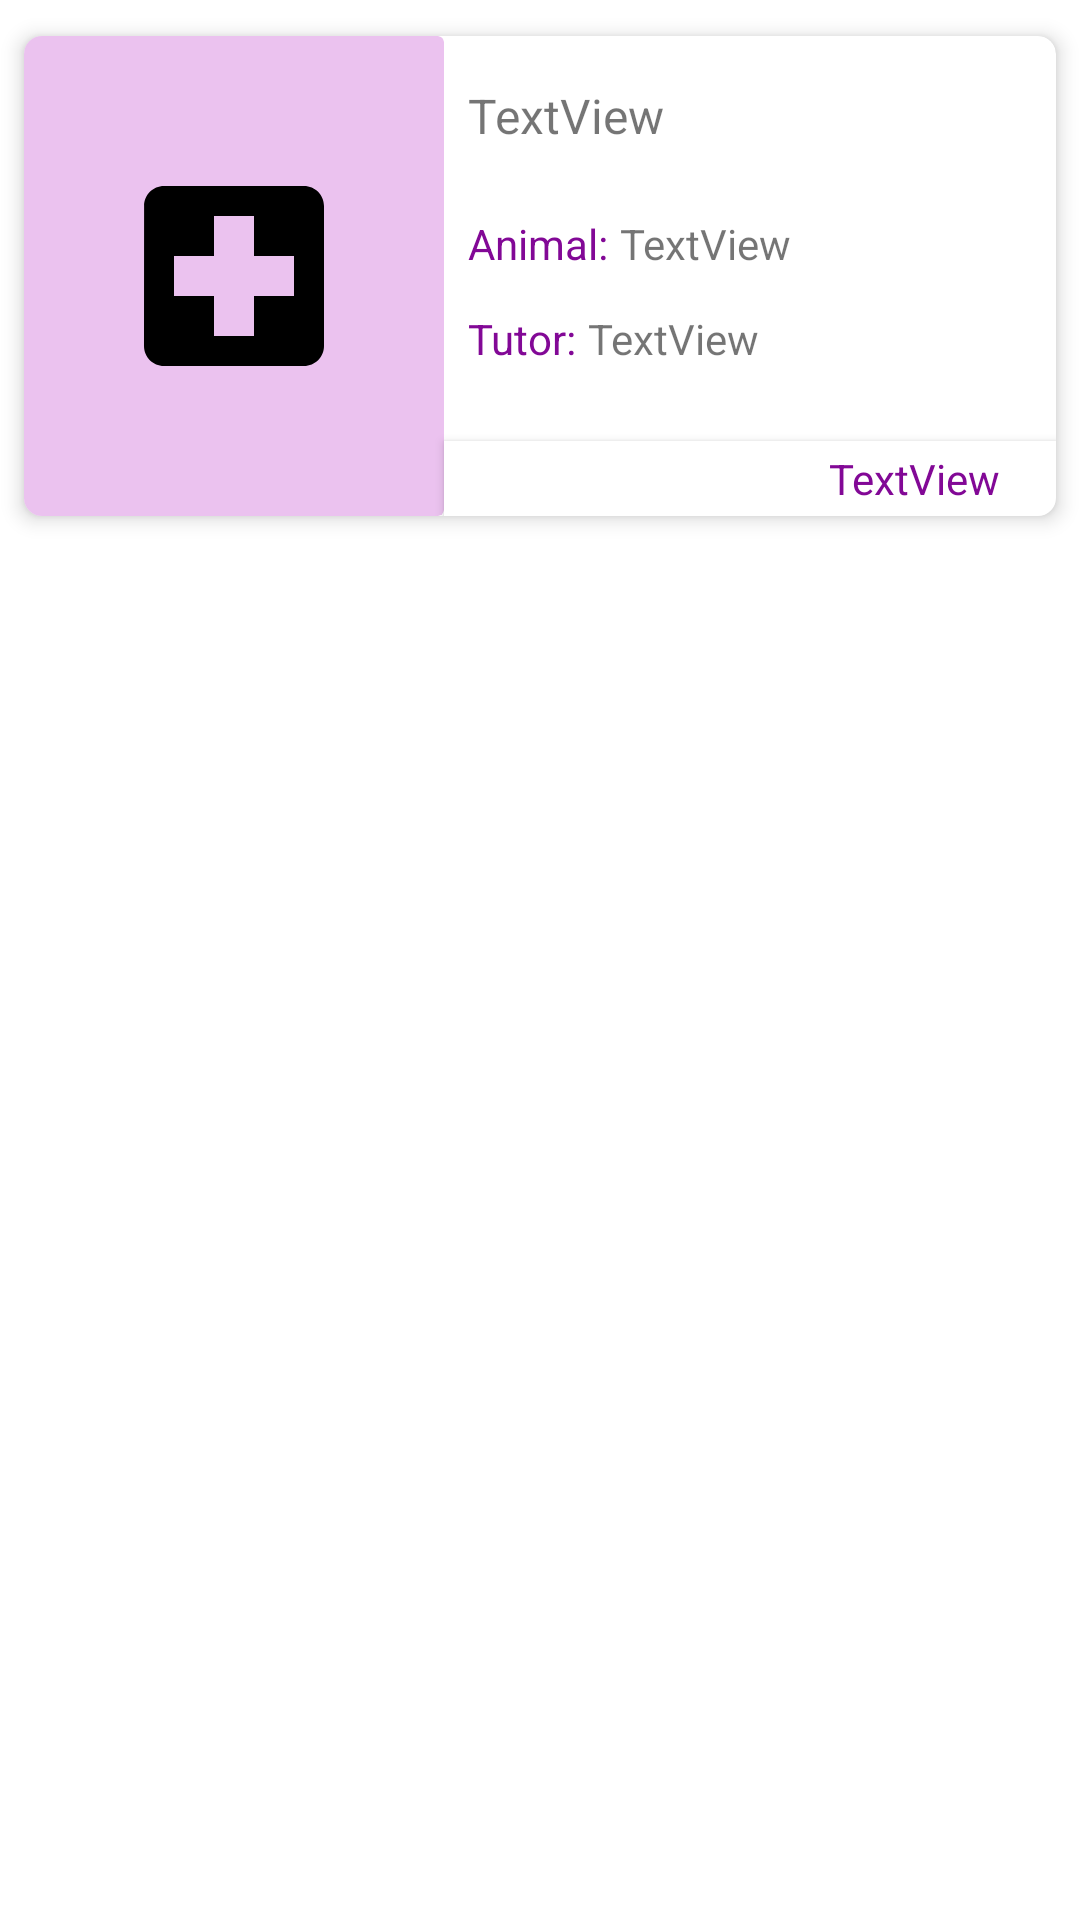

Point at icon controls on the screen. Image size 1080 x 1920, points as (x=x, y=y).
hospital local: (x=234, y=276)
